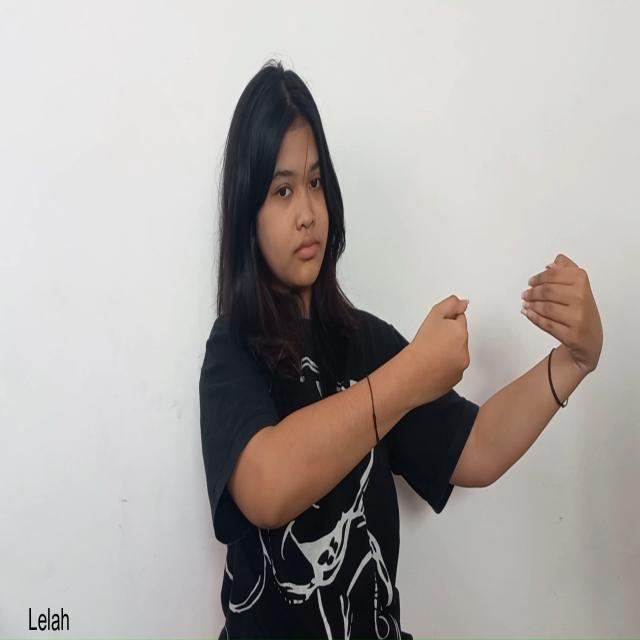Lelah -BISINDO-: (408, 252, 604, 415)
